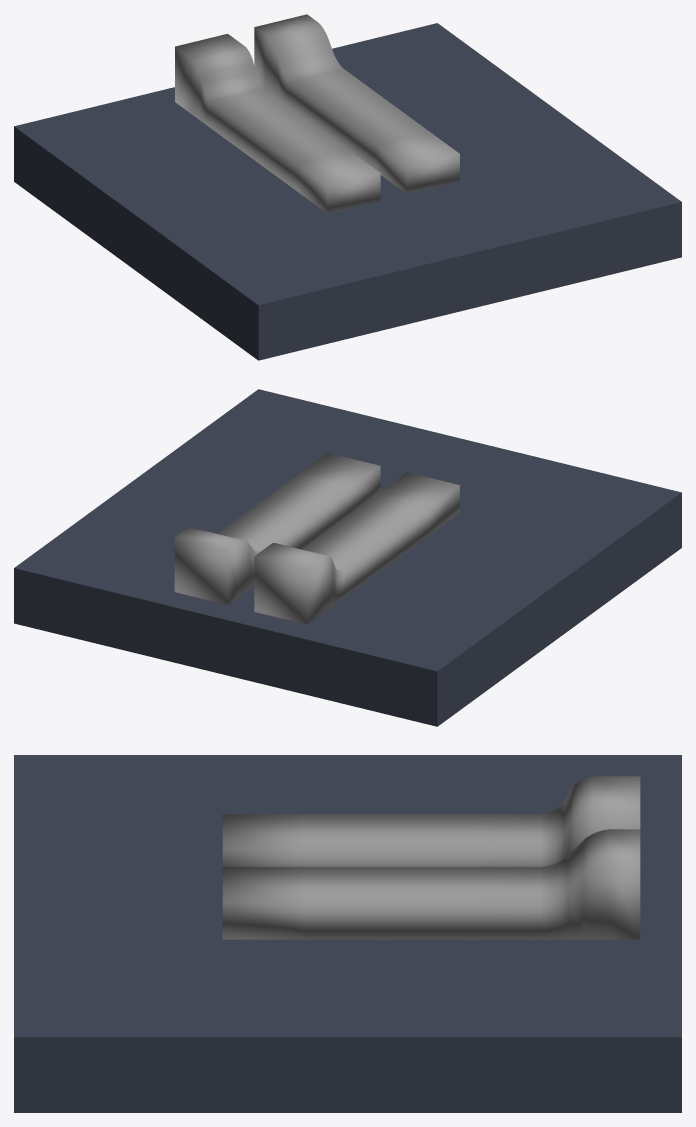
File: SkeeRamps2.glb
3 views of the same model, one above another, from view 1: azimuth 30°, elevation 25°; view 2: azimuth 150°, elevation 25°; view 3: azimuth 270°, elevation 25° (orthographic). The views are drawn at different scales.
Parts seen in each view (by area): view 1: Plane.002, ramp1, ramp2; view 2: Plane.002, ramp1, ramp2; view 3: Plane.002, ramp2, ramp1.
Part boxes in pixels (x1,y1,x2,y2): Plane.002: [14, 23, 681, 360]; ramp1: [175, 33, 380, 213]; ramp2: [254, 14, 459, 193]; Plane.002: [14, 389, 681, 726]; ramp1: [254, 472, 459, 624]; ramp2: [174, 453, 380, 604]; Plane.002: [14, 755, 681, 1112]; ramp2: [222, 829, 640, 939]; ramp1: [222, 776, 640, 866].
Size of what is drawn, in the model's own units: 16 by 4 by 16.
